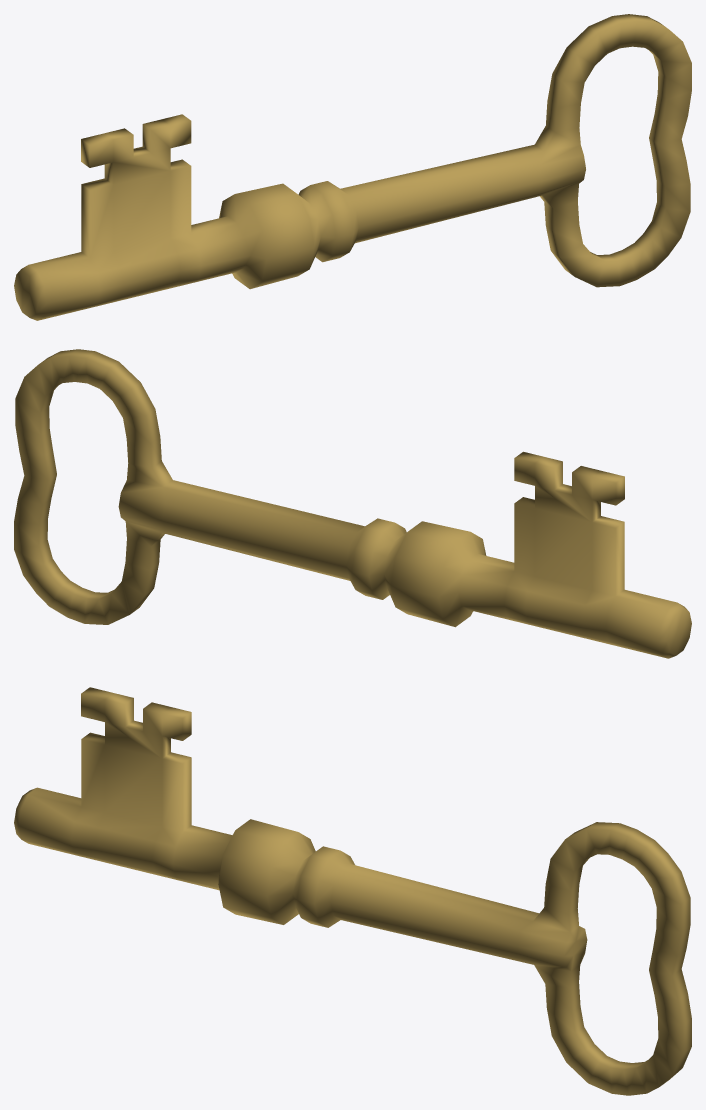
Rendered from key.fbx.
3 views of the same model, one above another, from view 1: azimuth 30°, elevation 25°; view 2: azimuth 150°, elevation 25°; view 3: azimuth 330°, elevation 25° (orthographic).
Visible parts, largest first — view 1: Key; view 2: Key; view 3: Key.
Part boxes in pixels (bbox=[...]): Key: bbox=[14, 14, 691, 320]; Key: bbox=[14, 349, 691, 658]; Key: bbox=[14, 687, 691, 1095].
Bounding box in the file's own units: 9.16 × 3.58 × 1.18.
